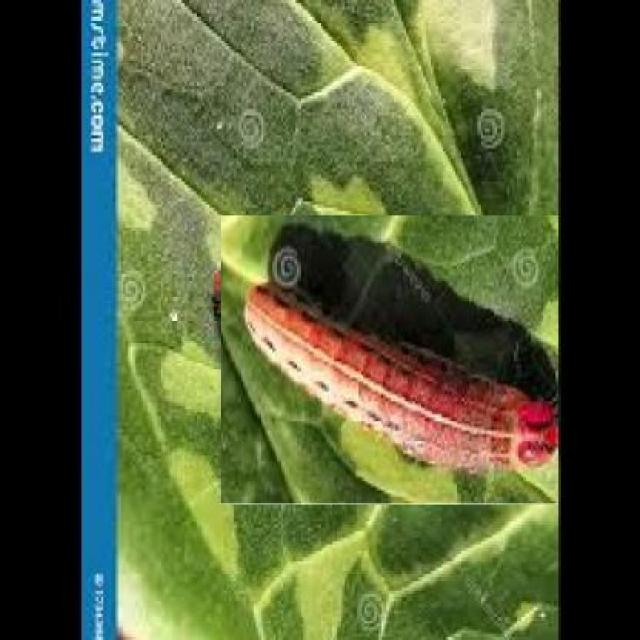Plaga: (219, 215, 561, 506)
